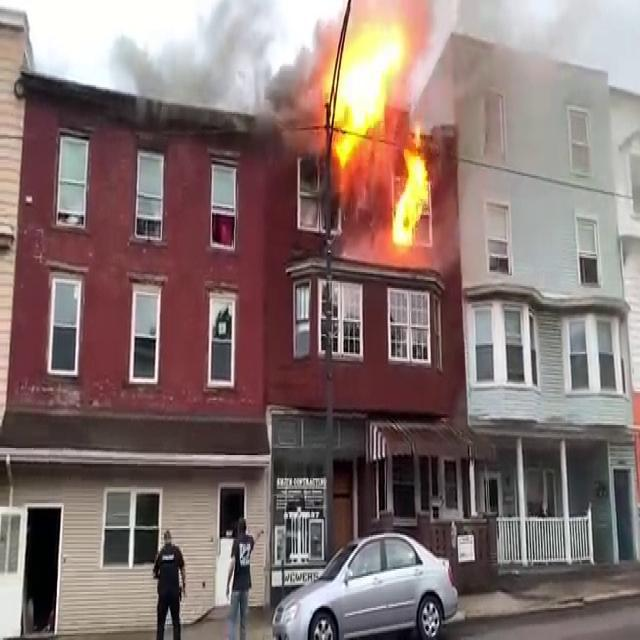Fire: (318, 2, 428, 165), (386, 136, 436, 260)
Smoke: (123, 0, 307, 123)
